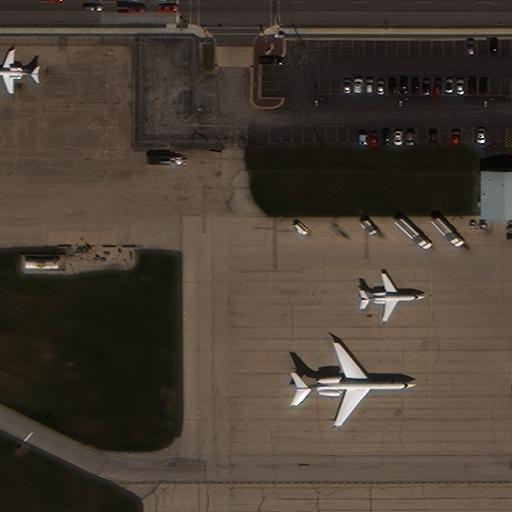Medium Civil Transport: (295, 342, 415, 426), (361, 273, 425, 320)
Small Civil Transport: (0, 49, 40, 94)
